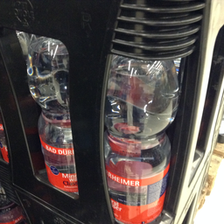water: (102, 54, 179, 224), (27, 34, 74, 192)
